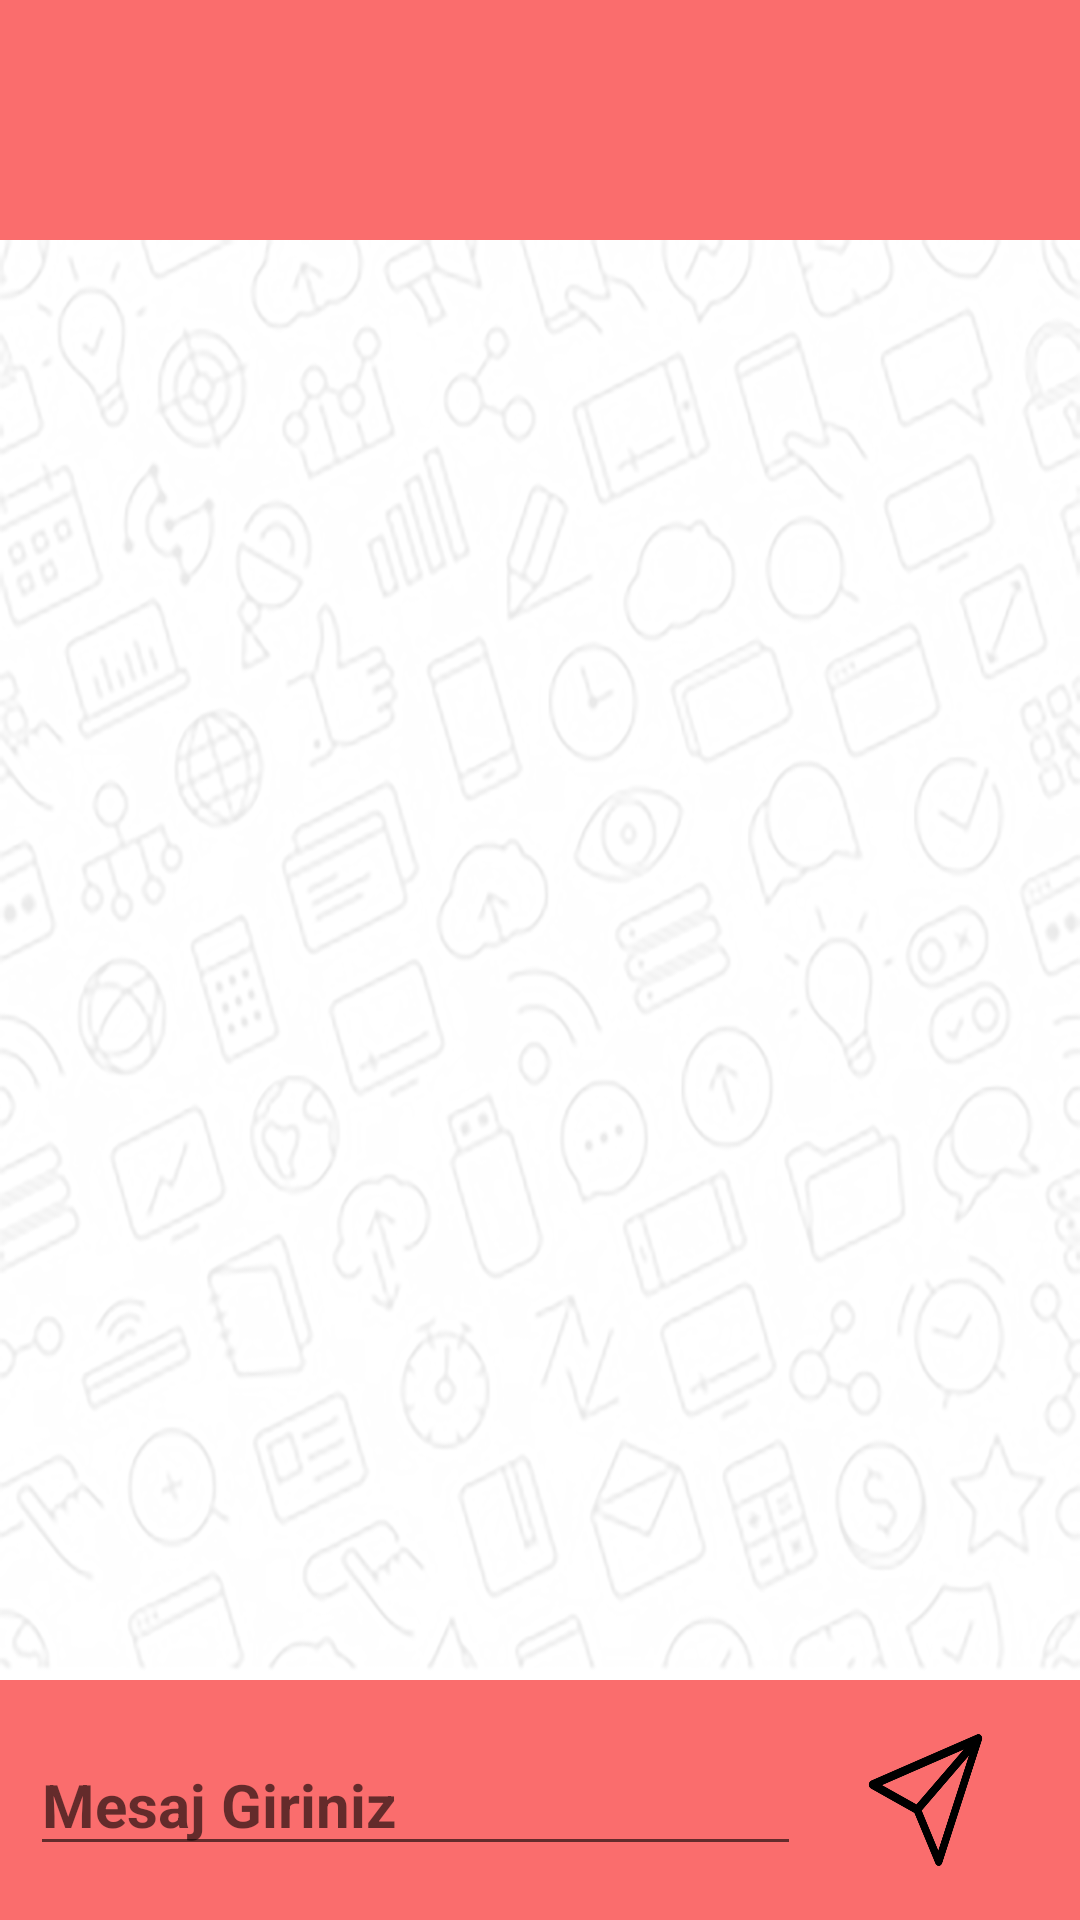

Screen size 1080w x 1920h. Icon name, then its box in pixels as (x1, y1, x2, y2):
send: (869, 1734, 982, 1866)
